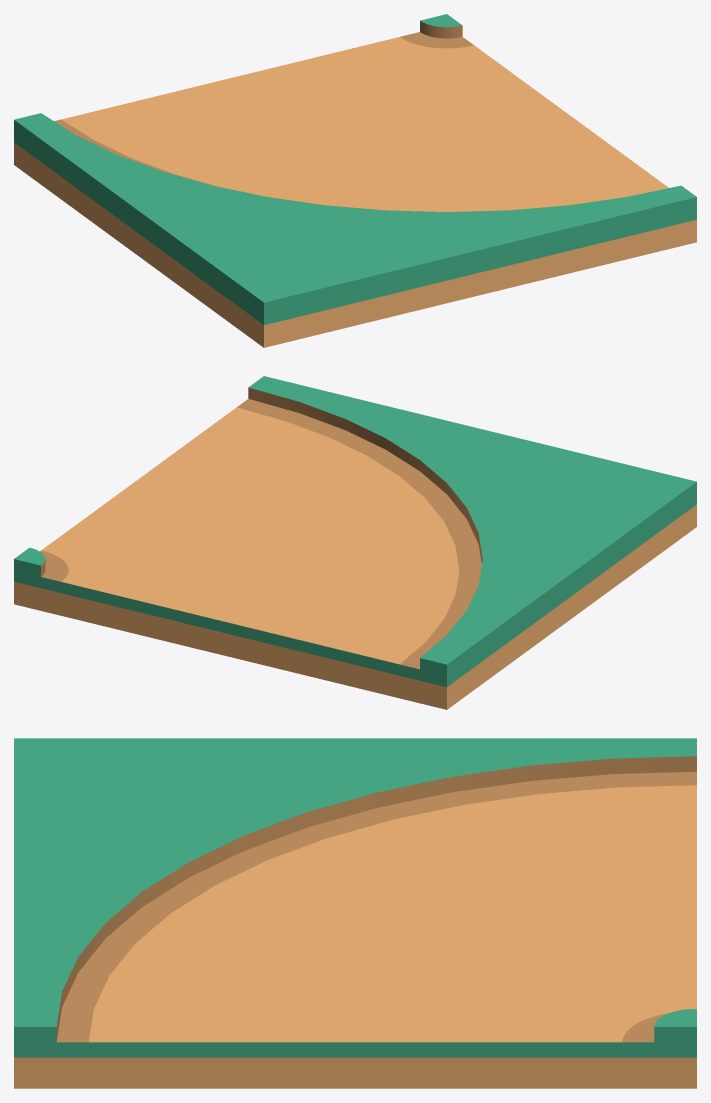
The model's file is tile_wideCorner.dae.
3 views of the same model, one above another, from view 1: azimuth 30°, elevation 25°; view 2: azimuth 150°, elevation 25°; view 3: azimuth 270°, elevation 25° (orthographic). The views are drawn at different scales.
Parts seen in each view (by area): view 1: tile_wideCorner; view 2: tile_wideCorner; view 3: tile_wideCorner.
Part boxes in pixels (x1,y1,x2,y2): tile_wideCorner: [14, 14, 696, 347]; tile_wideCorner: [14, 376, 696, 709]; tile_wideCorner: [14, 738, 696, 1088].
Size of the model in its own units: 2 by 0.2 by 2.
